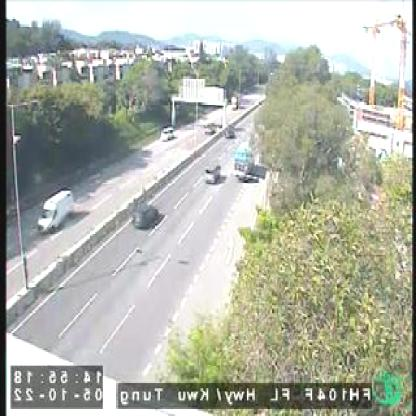Car: (39, 189, 74, 234), (134, 203, 158, 225), (204, 163, 221, 180), (163, 125, 174, 140)
Minibus: (233, 138, 255, 178)
